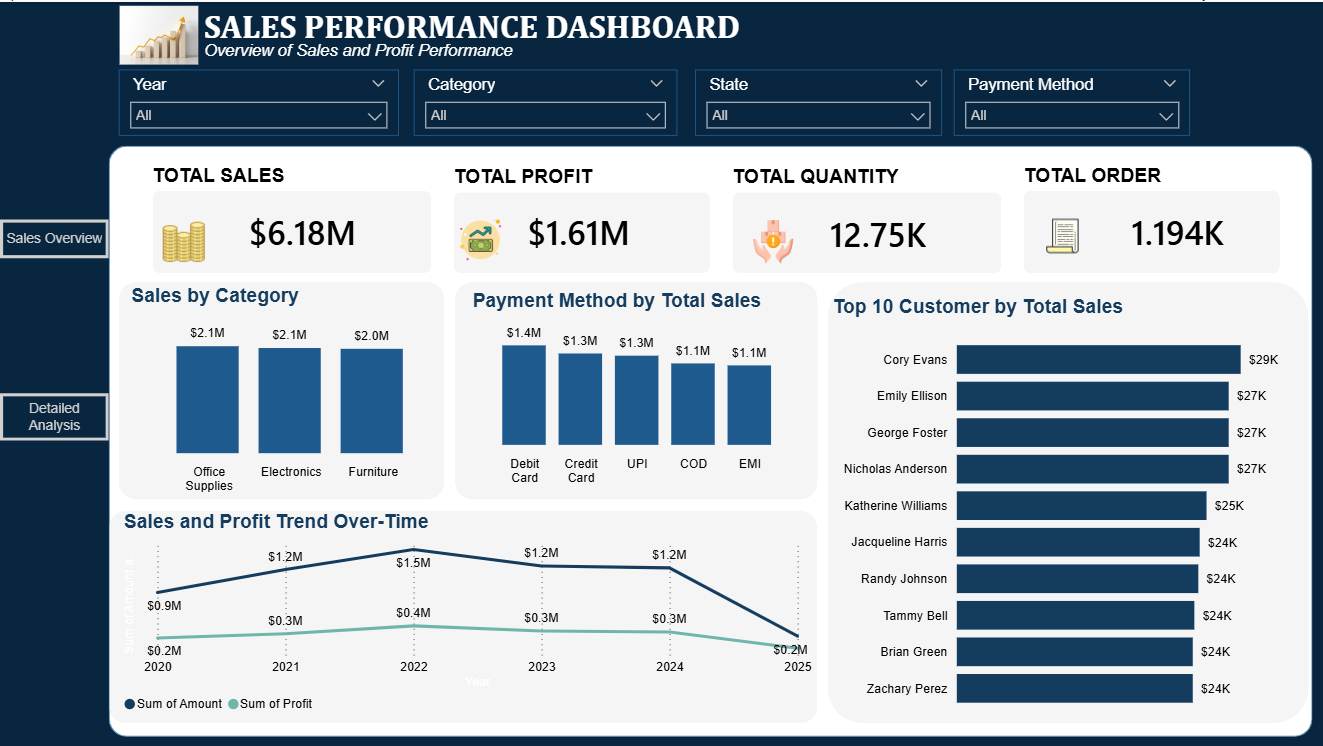

The dashboard page shown, as its layout file describes it:
{"tool":"powerbi","page":{"name":"Sales Overview","canvas":[1280,720],"ordinal":0},"visuals":[{"type":"shape","box":[104.9,138.3,1161.7,570.4],"z":0},{"type":"textbox","box":[191.8,0,843.3,48.3],"z":1000},{"type":"textbox","box":[191.4,32.1,360.5,33.3],"z":2000},{"type":"slicer","fields":{"Values":["Sales Dataset (1).Category"]},"box":[398.8,65.4,254.3,64.2],"z":3000},{"type":"shape","title":"TOTAL SALES","box":[147.2,156.8,269,105],"z":4000},{"type":"slicer","fields":{"Values":["Sales Dataset (1).State"]},"box":[670.4,65.4,238.3,64.2],"z":5000},{"type":"slicer","fields":{"Values":["Sales Dataset (1).Payment Method"]},"box":[921,65.4,228.4,64.2],"z":6000},{"type":"slicer","fields":{"Values":["Sales Dataset (1).Year"]},"box":[114.8,65.4,270.4,64.2],"z":7000},{"type":"cardVisual","title":"Total Sales","fields":{"Data":["Sum(Sales Dataset (1).Amount)"]},"box":[211.4,187.1,204.3,68.6],"z":8000},{"type":"shape","title":"TOTAL PROFIT","box":[437.9,158,247.3,103.8],"z":9000},{"type":"cardVisual","title":"Profit","fields":{"Data":["Sum(Sales Dataset (1).Profit)"]},"box":[480.2,187,205.1,68.8],"z":10000},{"type":"shape","title":"TOTAL QUANTITY","box":[707,158,259.4,103.8],"z":11000},{"type":"cardVisual","fields":{"Data":["Sum(Sales Dataset (1).Quantity)"]},"box":[772.1,188.2,194.2,68.8],"z":12000},{"type":"shape","title":"TOTAL ORDER","box":[988.1,156.8,247.3,105],"z":13000},{"type":"cardVisual","fields":{"Data":["CountNonNull(Sales Dataset (1).Order ID)"]},"box":[1062.9,187,172.5,68.8],"z":14000},{"type":"shape","title":"TOTAL PROFIT","box":[105,491,684.1,205.1],"z":15000},{"type":"lineChart","title":"Sales and Profit Trend Over-Time","fields":{"Y":["Sum(Sales Dataset (1).Amount)","Sum(Sales Dataset (1).Profit)"],"Category":["Sales Dataset (1).Year"]},"box":[114.6,491,674.4,205.1],"z":16000},{"type":"shape","title":"TOTAL QUANTITY","box":[114.3,270,314.3,210],"z":17000},{"type":"shape","title":"TOTAL QUANTITY","box":[438.6,270,350,210],"z":18000},{"type":"columnChart","title":"Sales by Category","fields":{"Category":["Sales Dataset (1).Category"],"Y":["Sum(Sales Dataset (1).Amount)"]},"box":[121.4,272.9,307.1,210],"z":19000},{"type":"shape","title":"TOTAL QUANTITY","box":[798.7,270.2,464.5,425.9],"z":20000},{"type":"clusteredBarChart","title":"Top 10 Customer by Total Sales","fields":{"Category":["Sales Dataset (1).CustomerName"],"Y":["Sum(Sales Dataset (1).Amount)"]},"box":[798.7,283.5,451.2,412.6],"z":21000},{"type":"clusteredColumnChart","title":" Payment Method by Total Sales","fields":{"Category":["Sales Dataset (1).Payment Method"],"Y":["Sum(Sales Dataset (1).Amount)"]},"box":[451.4,277.1,321.4,197.1],"z":22000},{"type":"actionButton","box":[0,209.9,105,37.4],"z":23000},{"type":"actionButton","box":[0,377.6,105,45.8],"z":24000},{"type":"image","box":[114.6,3.6,77.2,56.7],"z":25000},{"type":"image","box":[153.2,209.9,47.1,43.4],"z":26000},{"type":"image","box":[437.9,203.9,51.9,50.7],"z":27000},{"type":"image","box":[1001.3,196.6,47.1,57.9],"z":28000},{"type":"image","box":[720.2,205.1,51.9,50.7],"z":29000}]}

Visuals, with their boxes in screenshot pixels (x1, y1, x2, y2), scaled from the page's 1280x720 canvas onto the 1323x746 screenshot:
shape: rect(108, 143, 1309, 734)
textbox: rect(198, 0, 1070, 50)
textbox: rect(198, 33, 570, 68)
slicer - Sales Dataset (1).Category: rect(412, 68, 675, 134)
"TOTAL SALES" shape: rect(152, 162, 430, 271)
slicer - Sales Dataset (1).State: rect(693, 68, 939, 134)
slicer - Sales Dataset (1).Payment Method: rect(952, 68, 1188, 134)
slicer - Sales Dataset (1).Year: rect(119, 68, 398, 134)
"Total Sales" cardVisual: rect(219, 194, 430, 265)
"TOTAL PROFIT" shape: rect(453, 164, 708, 271)
"Profit" cardVisual: rect(496, 194, 708, 265)
"TOTAL QUANTITY" shape: rect(731, 164, 999, 271)
cardVisual - Sum(Sales Dataset (1).Quantity): rect(798, 195, 999, 266)
"TOTAL ORDER" shape: rect(1021, 162, 1277, 271)
cardVisual - CountNonNull(Sales Dataset (1).Order ID): rect(1099, 194, 1277, 265)
"TOTAL PROFIT" shape: rect(109, 509, 816, 721)
"Sales and Profit Trend Over-Time" lineChart: rect(118, 509, 816, 721)
"TOTAL QUANTITY" shape: rect(118, 280, 443, 497)
"TOTAL QUANTITY" shape: rect(453, 280, 815, 497)
"Sales by Category" columnChart: rect(125, 283, 443, 500)
"TOTAL QUANTITY" shape: rect(826, 280, 1306, 721)
"Top 10 Customer by Total Sales" clusteredBarChart: rect(826, 294, 1292, 721)
" Payment Method by Total Sales" clusteredColumnChart: rect(467, 287, 799, 491)
actionButton: rect(0, 217, 109, 256)
actionButton: rect(0, 391, 109, 439)
image: rect(118, 4, 198, 62)
image: rect(158, 217, 207, 262)
image: rect(453, 211, 506, 264)
image: rect(1035, 204, 1084, 264)
image: rect(744, 213, 798, 265)
